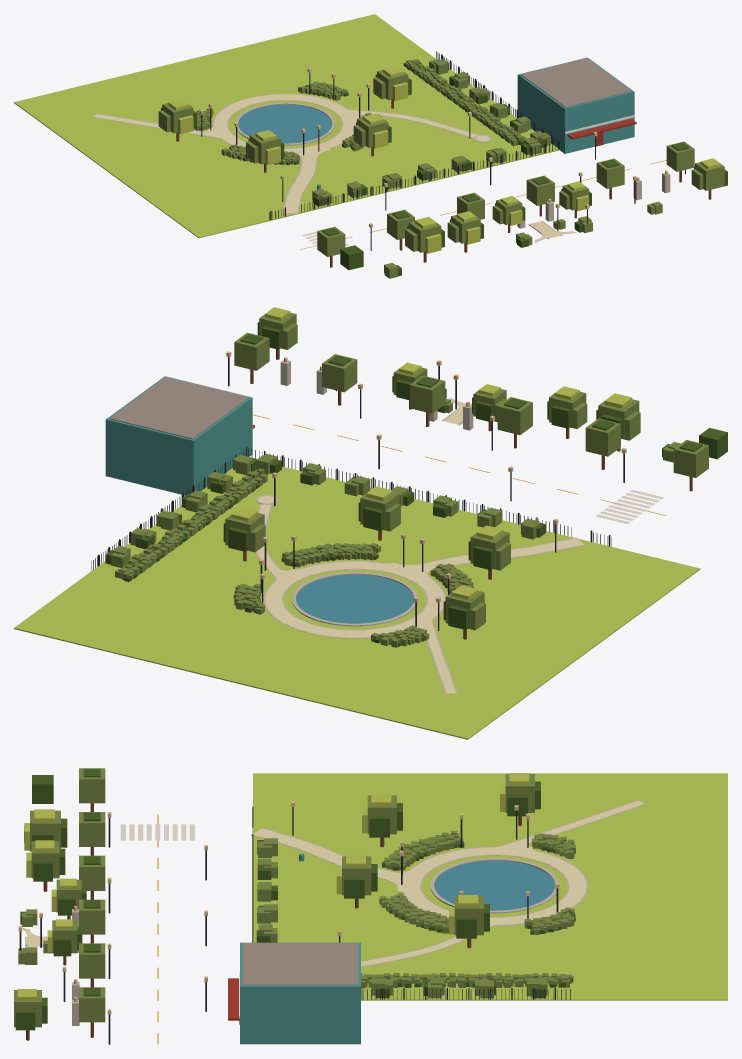
Rendered from chunk_-1_-2.glb.
3 renders of one model, top to bottom at view 1: azimuth 30°, elevation 25°; view 2: azimuth 150°, elevation 25°; view 3: azimuth 270°, elevation 25°, orthographic. The views are drawn at different scales.
Parts seen in each view (by area): view 1: chunk_-1_-2__ground, chunk_-1_-2__tree, chunk_-1_-2__building, chunk_-1_-2__water, chunk_-1_-2__feat_garden, chunk_-1_-2__lamp, chunk_-1_-2__feat_gate; view 2: chunk_-1_-2__ground, chunk_-1_-2__tree, chunk_-1_-2__building, chunk_-1_-2__water, chunk_-1_-2__feat_garden, chunk_-1_-2__lamp, chunk_-1_-2__feat_gate; view 3: chunk_-1_-2__ground, chunk_-1_-2__tree, chunk_-1_-2__building, chunk_-1_-2__water, chunk_-1_-2__lamp, chunk_-1_-2__feat_garden.
Part boxes in pixels (x1,y1,x2,y2): chunk_-1_-2__ground: [14, 14, 666, 249]; chunk_-1_-2__tree: [158, 59, 727, 278]; chunk_-1_-2__building: [517, 57, 636, 153]; chunk_-1_-2__water: [235, 102, 335, 145]; chunk_-1_-2__feat_garden: [269, 51, 559, 220]; chunk_-1_-2__lamp: [199, 68, 685, 250]; chunk_-1_-2__feat_gate: [517, 170, 670, 228]; chunk_-1_-2__ground: [14, 397, 700, 739]; chunk_-1_-2__tree: [105, 307, 727, 647]; chunk_-1_-2__building: [105, 376, 254, 495]; chunk_-1_-2__water: [292, 572, 417, 626]; chunk_-1_-2__feat_garden: [91, 446, 611, 571]; chunk_-1_-2__lamp: [226, 351, 626, 630]; chunk_-1_-2__feat_gate: [280, 357, 473, 430]; chunk_-1_-2__ground: [23, 773, 727, 1044]; chunk_-1_-2__tree: [14, 768, 575, 1040]; chunk_-1_-2__building: [228, 942, 360, 1044]; chunk_-1_-2__water: [430, 858, 558, 913]; chunk_-1_-2__lamp: [18, 801, 559, 1044]; chunk_-1_-2__feat_garden: [252, 806, 570, 999].
Size of the model in its own units: 75.03 by 7.82 by 82.65.
